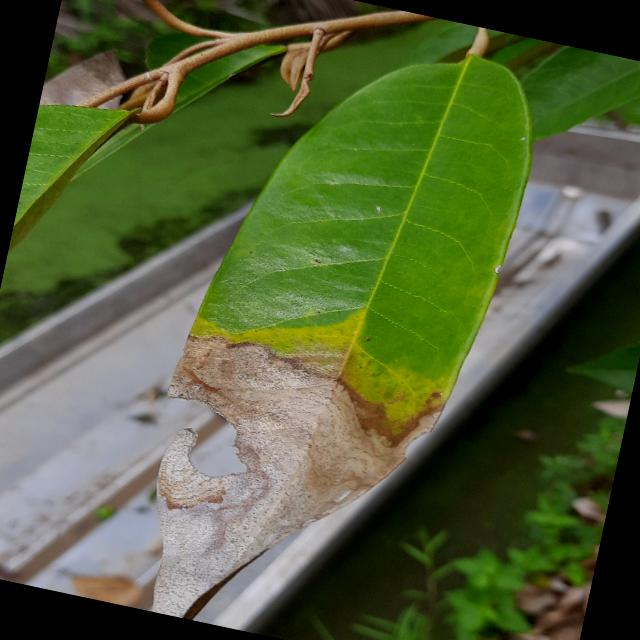Leaf Blight: (110, 0, 561, 639)
